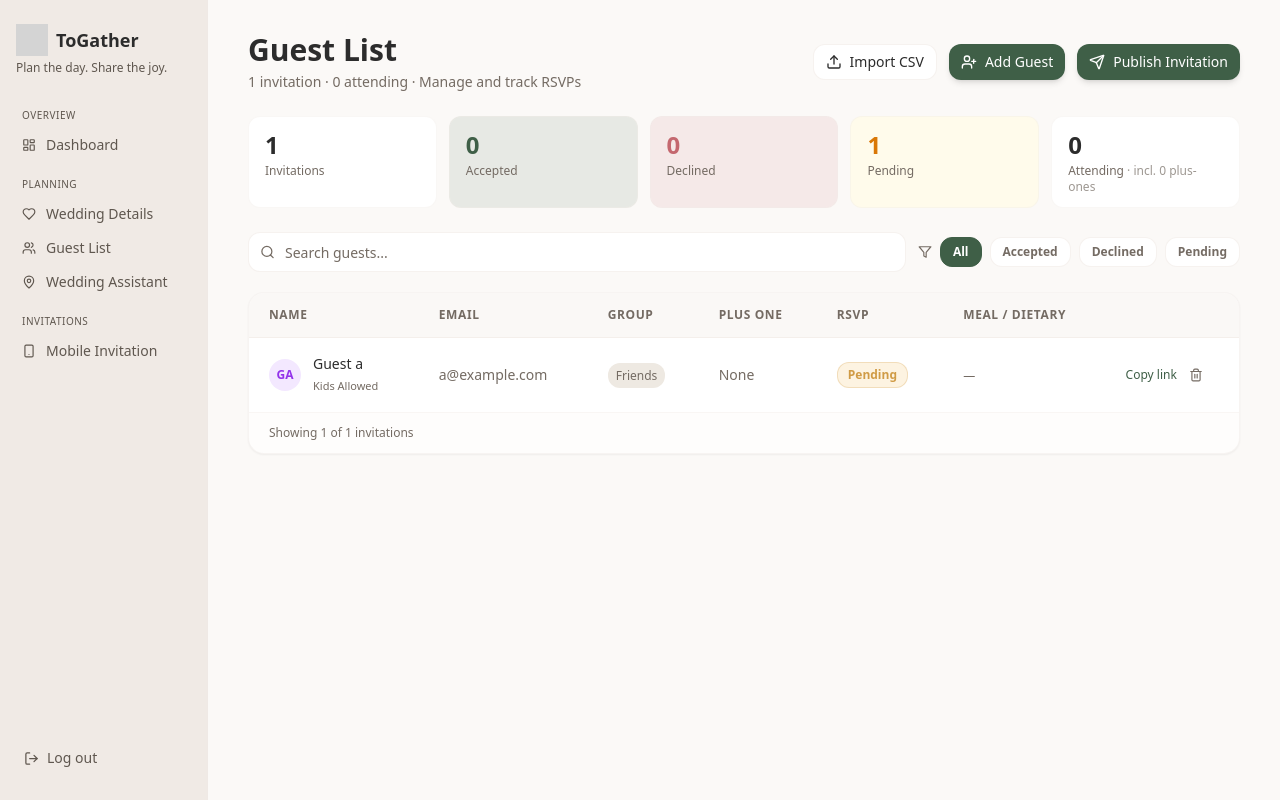
Guest List — confirmation modal › counts guests the table can't show (no name) — the count comes from its own query
Click the button "Publish Invitation" at (1159, 62), box top-left (1077, 44), bottom-right (1240, 80)
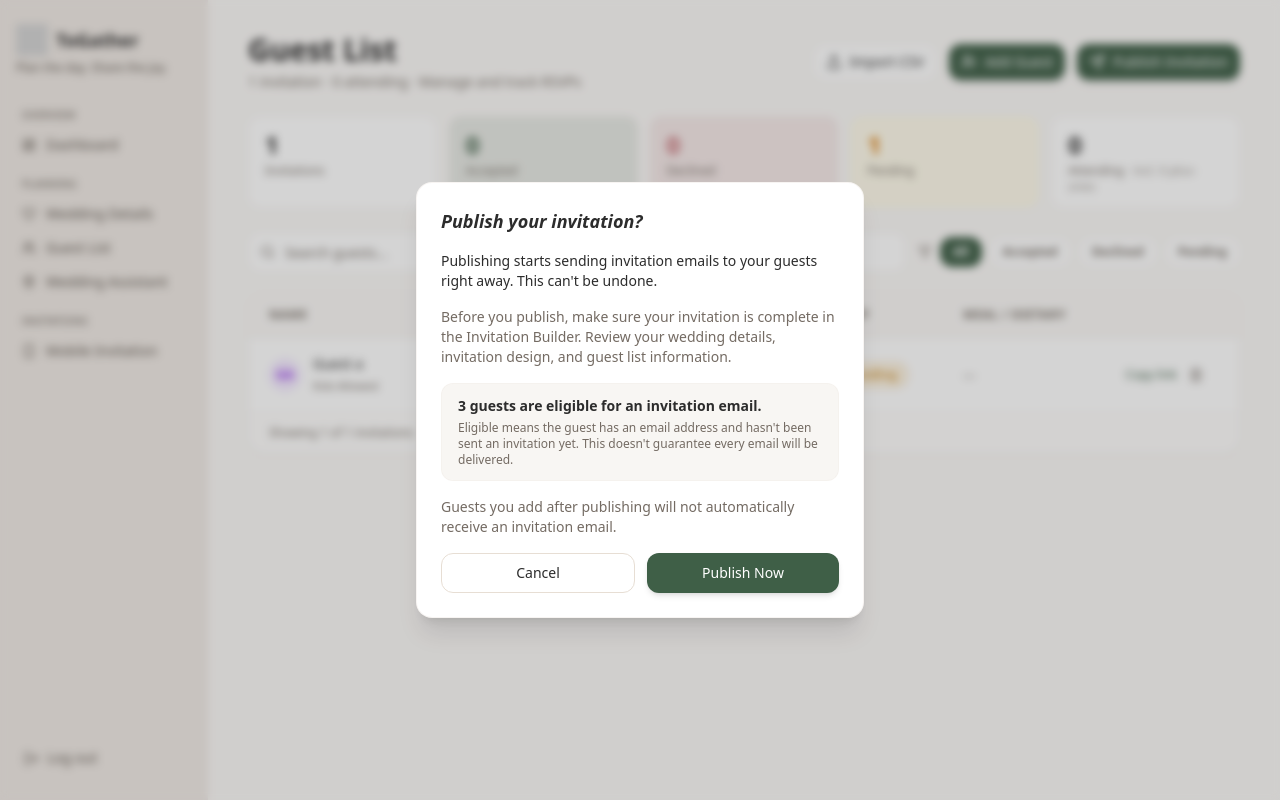
Expected: the dialog is shown, top-left (416, 182), bottom-right (864, 618)
Expected: the element with test id "publish-eligible" shows "3 guests are eligible", top-left (441, 383), bottom-right (839, 481)
